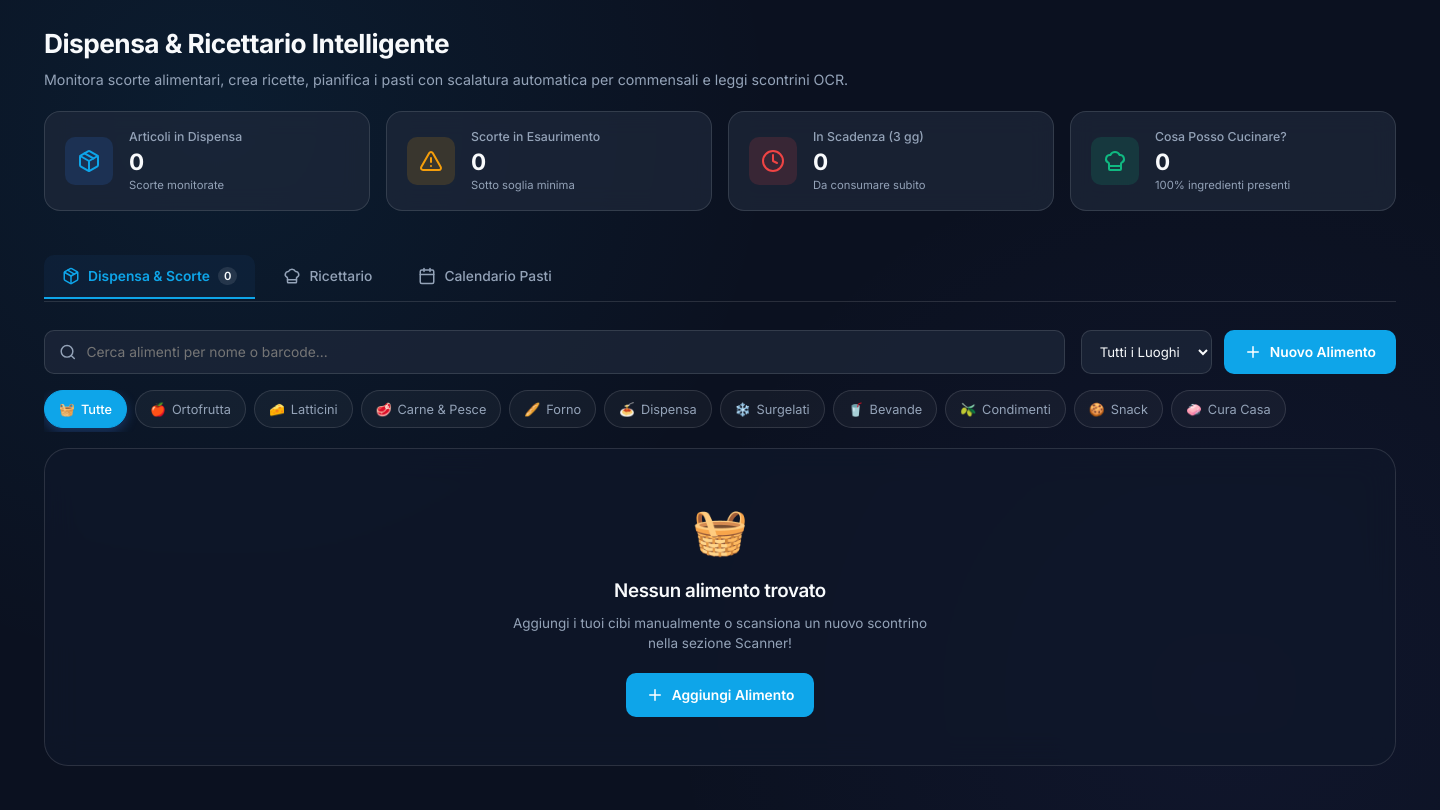
Test: PantryView.vue › switches tabs properly between inventory, recipes, and calendar
The width and height of the screenshot is (1440, 810).
# Switch to Recipes tab
Click the tab with class "tab-nav-btn" showing "Ricettario". click: (328, 277)
box: [265, 255, 390, 299]
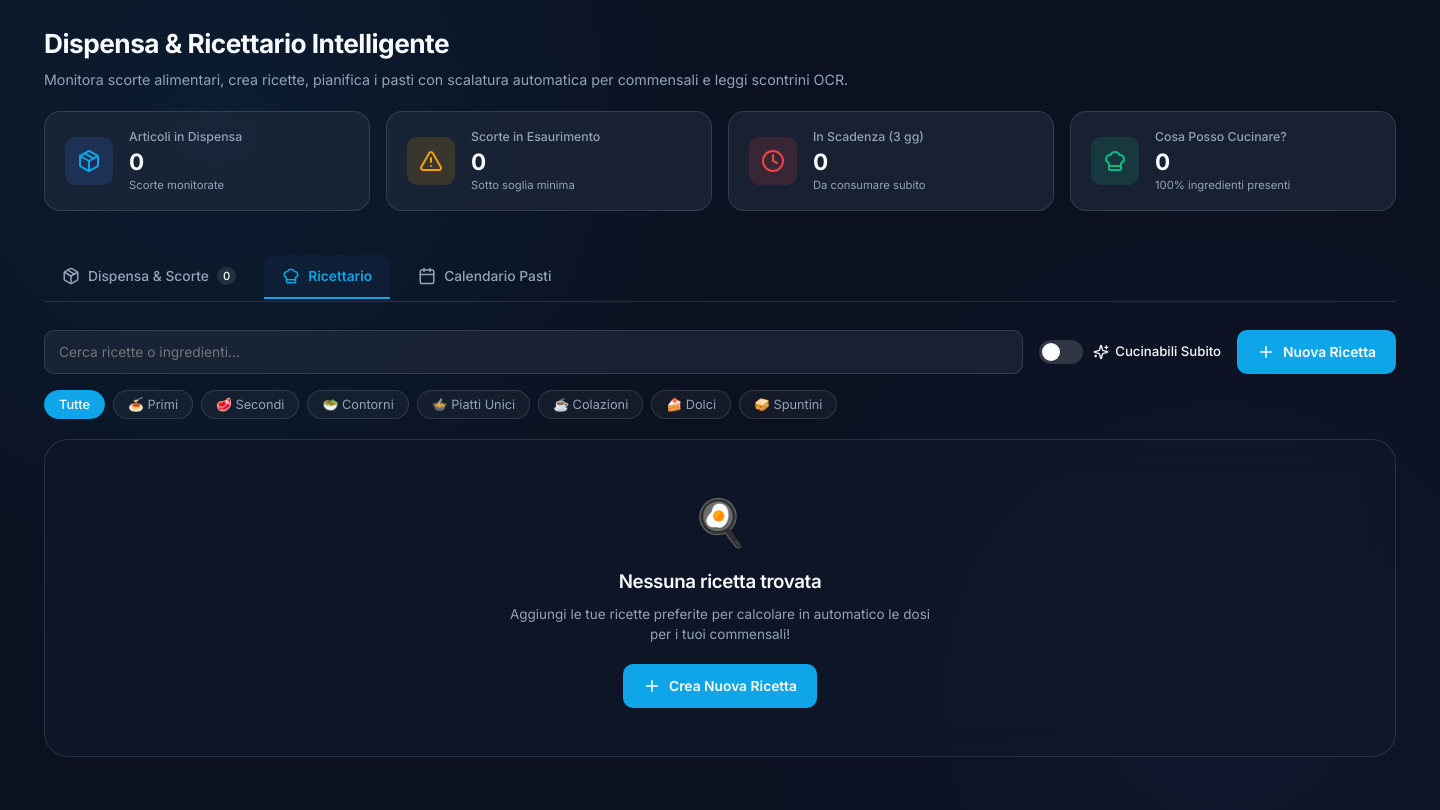
expect the text "Nuova Ricetta" is shown: met, box [1283, 344, 1376, 360]
# Switch to Calendar tab
Click the tab with class "tab-nav-btn" showing "Calendario Pasti". click: (485, 277)
box: [400, 255, 570, 299]
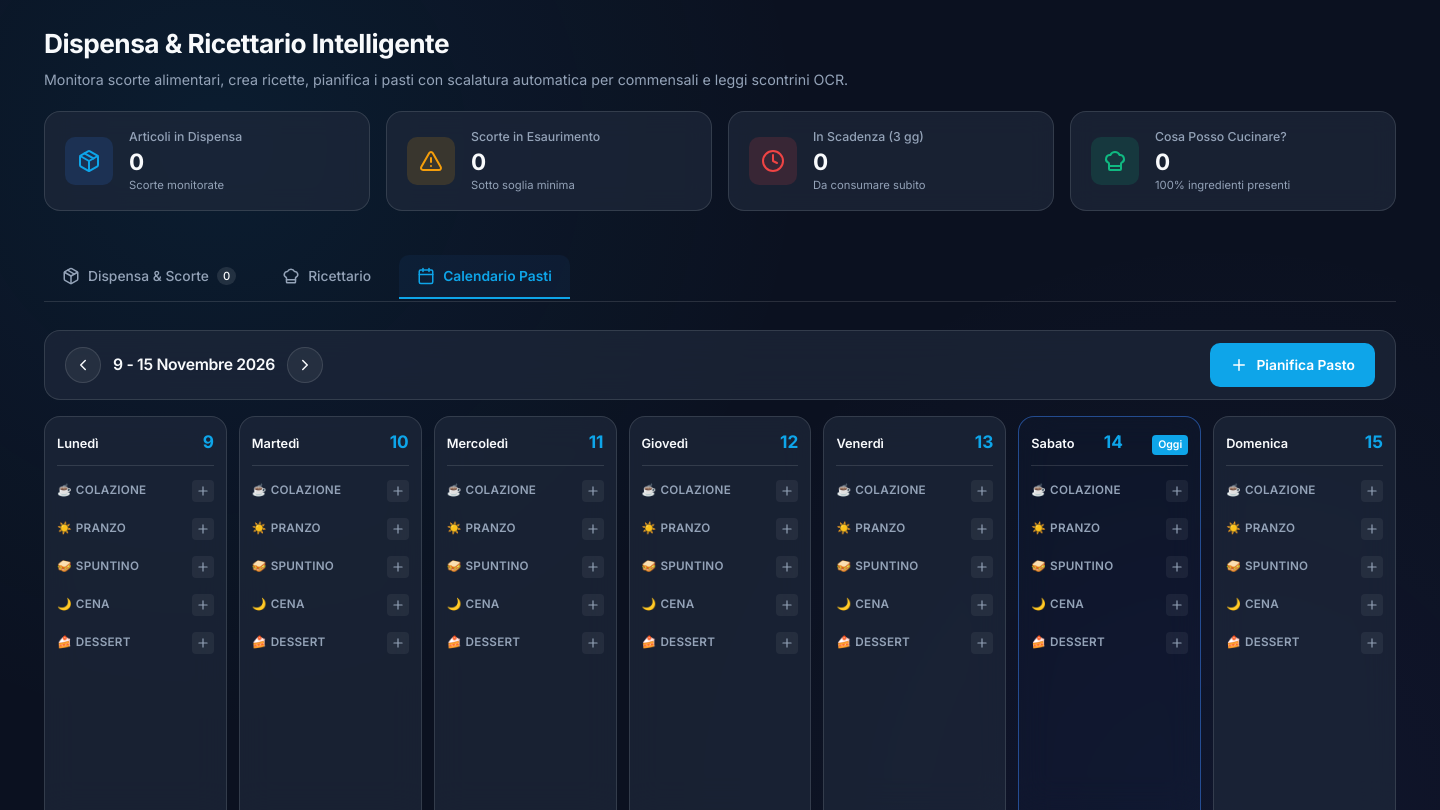
expect the text "Pianifica Pasto" is shown: met, box [1256, 357, 1355, 373]
